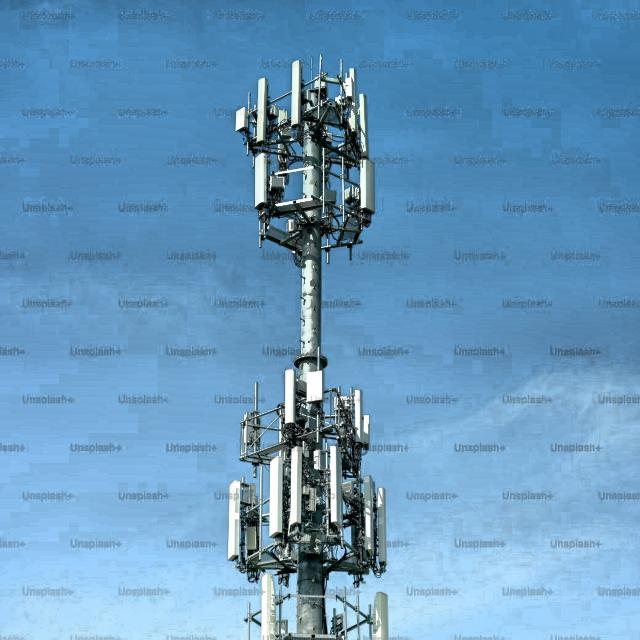antenna: (269, 456, 283, 536), (227, 480, 241, 559), (329, 446, 342, 525), (289, 446, 302, 525), (363, 476, 374, 556), (359, 158, 374, 212), (376, 487, 386, 567), (256, 77, 267, 142), (290, 60, 301, 125), (254, 153, 267, 207), (284, 369, 295, 423), (358, 93, 367, 157), (352, 388, 362, 441), (362, 415, 369, 446)
